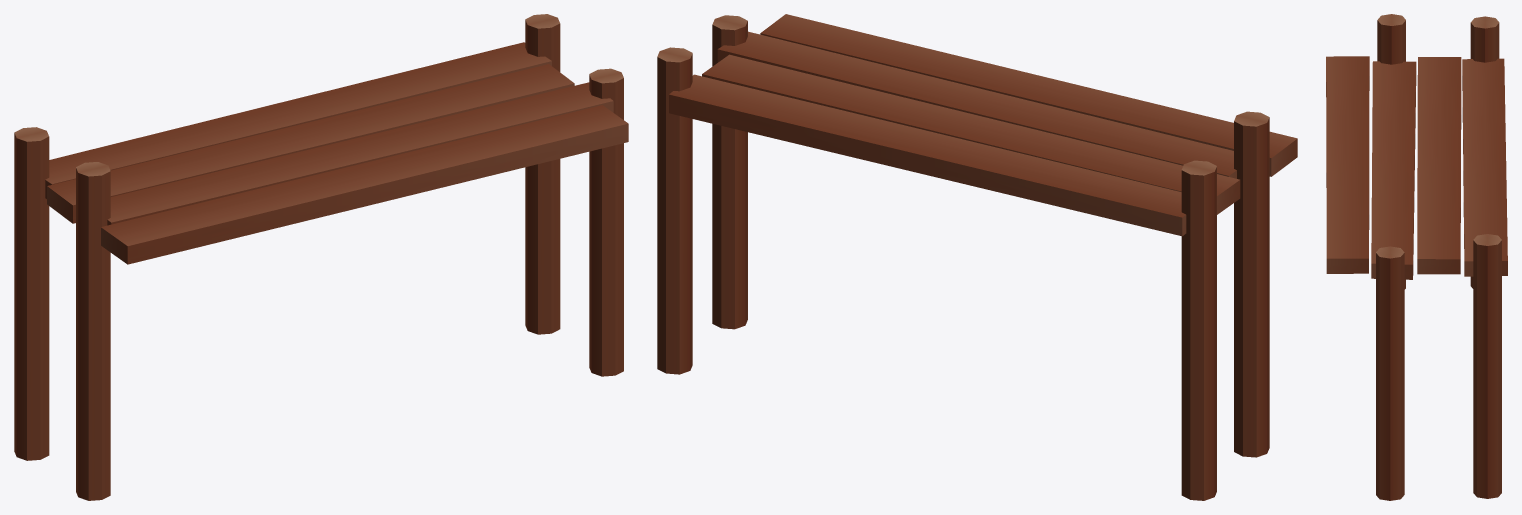
The model's file is bridge.fbx.
The picture shows the model from 3 angles, left to right: view 1: azimuth 30°, elevation 25°; view 2: azimuth 150°, elevation 25°; view 3: azimuth 270°, elevation 25°; orthographic projection. The views are drawn at different scales.
Visible parts, largest first — view 1: bridge_planes, bridge; view 2: bridge_planes, bridge; view 3: bridge_planes, bridge.
Part boxes in pixels (x1,y1,x2,y2): bridge_planes: [45, 42, 628, 264]; bridge: [14, 14, 623, 500]; bridge_planes: [669, 14, 1297, 236]; bridge: [657, 15, 1269, 500]; bridge_planes: [1326, 56, 1507, 279]; bridge: [1376, 14, 1501, 500].
Size of the model in its own units: 673 by 381 by 234.
Materials: 1 (1 with a texture image).
